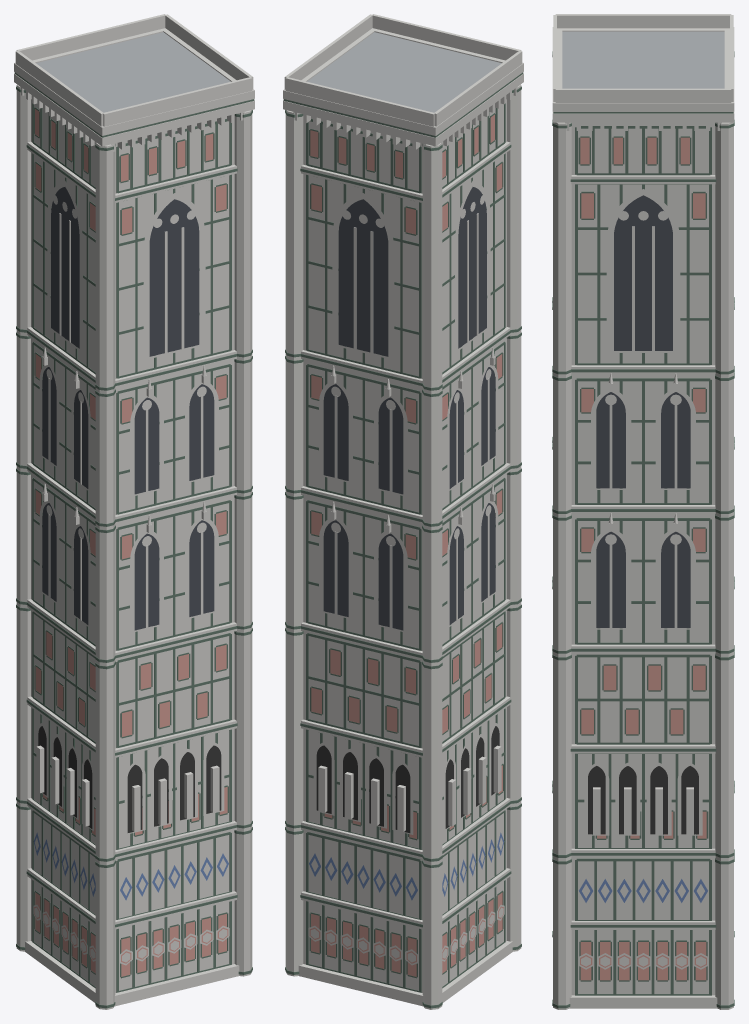
The model's file is campanile.glb.
3 renders of one model, left to right at view 1: azimuth 30°, elevation 25°; view 2: azimuth 150°, elevation 25°; view 3: azimuth 270°, elevation 25°, orthographic. The views are drawn at different scales.
Parts seen in each view (by area): view 1: campanile_talenti_3@1359-99999.white, campanile_pisano@1348-99999.white, campanile_giotto@1337-99999.white, campanile_talenti_2@1355-99999.white, campanile_talenti_1@1352-99999.white, campanile_pisano@1348-99999.green, campanile_talenti_3@1359-99999.green, campanile_talenti_3@1359-99999.glass, campanile_giotto@1337-99999.green, campanile_talenti_3@1359-99999.lead, campanile_talenti_1@1352-99999.glass, campanile_talenti_2@1355-99999.glass (+9 smaller); view 2: campanile_talenti_3@1359-99999.white, campanile_pisano@1348-99999.white, campanile_giotto@1337-99999.white, campanile_talenti_2@1355-99999.white, campanile_talenti_1@1352-99999.white, campanile_pisano@1348-99999.green, campanile_talenti_3@1359-99999.green, campanile_talenti_3@1359-99999.glass, campanile_giotto@1337-99999.green, campanile_talenti_3@1359-99999.lead, campanile_talenti_1@1352-99999.glass, campanile_talenti_2@1355-99999.glass (+9 smaller); view 3: campanile_talenti_3@1359-99999.white, campanile_pisano@1348-99999.white, campanile_giotto@1337-99999.white, campanile_talenti_1@1352-99999.white, campanile_talenti_2@1355-99999.white, campanile_talenti_3@1359-99999.lead, campanile_talenti_3@1359-99999.green, campanile_pisano@1348-99999.green, campanile_talenti_3@1359-99999.glass, campanile_giotto@1337-99999.green, campanile_talenti_2@1355-99999.glass, campanile_talenti_1@1352-99999.glass (+9 smaller).
Boxes of the visible parts, left/top/right/bottom form: campanile_talenti_3@1359-99999.white: left=14, top=14, right=254, bottom=392; campanile_pisano@1348-99999.white: left=16, top=603, right=252, bottom=863; campanile_giotto@1337-99999.white: left=16, top=802, right=252, bottom=1009; campanile_talenti_2@1355-99999.white: left=16, top=331, right=252, bottom=528; campanile_talenti_1@1352-99999.white: left=16, top=467, right=252, bottom=664; campanile_pisano@1348-99999.green: left=16, top=604, right=252, bottom=861; campanile_talenti_3@1359-99999.green: left=14, top=72, right=254, bottom=390; campanile_talenti_3@1359-99999.glass: left=51, top=187, right=199, bottom=356; campanile_giotto@1337-99999.green: left=16, top=803, right=252, bottom=1008; campanile_talenti_3@1359-99999.lead: left=36, top=32, right=230, bottom=112; campanile_talenti_1@1352-99999.glass: left=42, top=503, right=214, bottom=630; campanile_talenti_2@1355-99999.glass: left=42, top=367, right=214, bottom=494; campanile_talenti_3@1359-99999.white: left=283, top=14, right=523, bottom=392; campanile_pisano@1348-99999.white: left=285, top=603, right=521, bottom=863; campanile_giotto@1337-99999.white: left=285, top=802, right=521, bottom=1009; campanile_talenti_2@1355-99999.white: left=285, top=331, right=521, bottom=528; campanile_talenti_1@1352-99999.white: left=285, top=467, right=521, bottom=664; campanile_pisano@1348-99999.green: left=285, top=604, right=521, bottom=861; campanile_talenti_3@1359-99999.green: left=283, top=72, right=523, bottom=390; campanile_talenti_3@1359-99999.glass: left=338, top=187, right=486, bottom=356; campanile_giotto@1337-99999.green: left=285, top=803, right=521, bottom=1008; campanile_talenti_3@1359-99999.lead: left=307, top=32, right=501, bottom=112; campanile_talenti_1@1352-99999.glass: left=323, top=503, right=495, bottom=630; campanile_talenti_2@1355-99999.glass: left=323, top=367, right=495, bottom=494; campanile_talenti_3@1359-99999.white: left=552, top=14, right=734, bottom=375; campanile_pisano@1348-99999.white: left=553, top=653, right=733, bottom=859; campanile_giotto@1337-99999.white: left=553, top=857, right=733, bottom=1009; campanile_talenti_1@1352-99999.white: left=553, top=513, right=733, bottom=655; campanile_talenti_2@1355-99999.white: left=553, top=373, right=733, bottom=515; campanile_talenti_3@1359-99999.lead: left=562, top=31, right=724, bottom=88; campanile_talenti_3@1359-99999.green: left=552, top=51, right=734, bottom=374; campanile_pisano@1348-99999.green: left=552, top=583, right=734, bottom=857; campanile_talenti_3@1359-99999.glass: left=614, top=195, right=672, bottom=350; campanile_giotto@1337-99999.green: left=552, top=787, right=734, bottom=1008; campanile_talenti_2@1355-99999.glass: left=596, top=392, right=690, bottom=488; campanile_talenti_1@1352-99999.glass: left=596, top=531, right=690, bottom=627.
Size of the model in its own units: 15.36 by 85.6 by 15.36.
